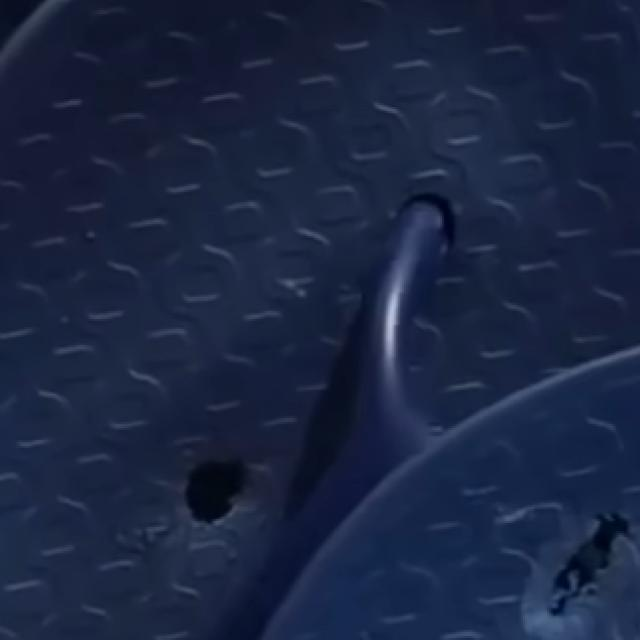bullets: (163, 441, 267, 544)
